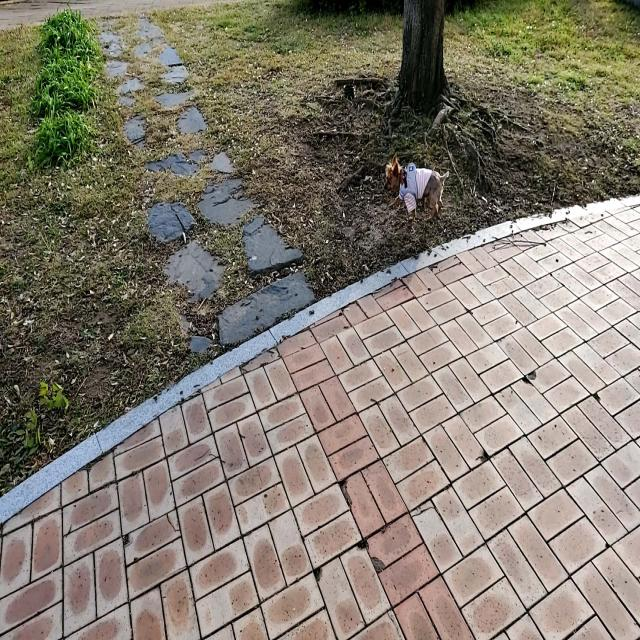Dog: (383, 154, 449, 234)
